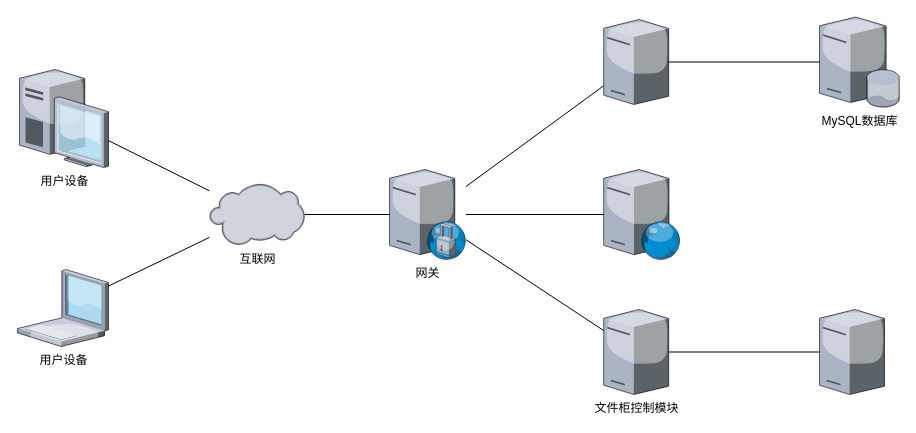
Image size: 916x433. Some labels were removed from this diagram. Each missing label, with the box of its shape:
API服务器: (603, 19, 668, 104)
Web服务器: (603, 169, 680, 259)
文件柜: (819, 309, 884, 394)
